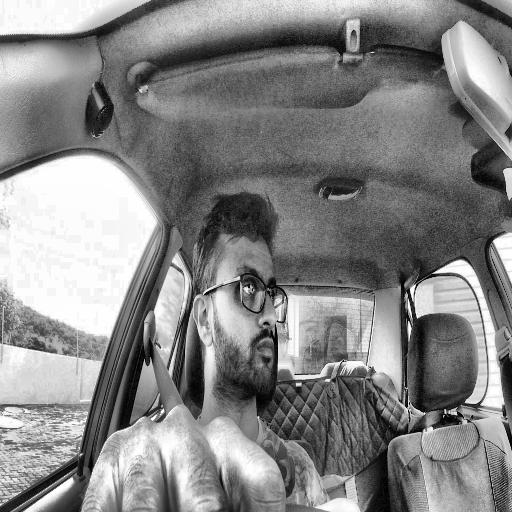awake: (190, 194, 288, 396)
